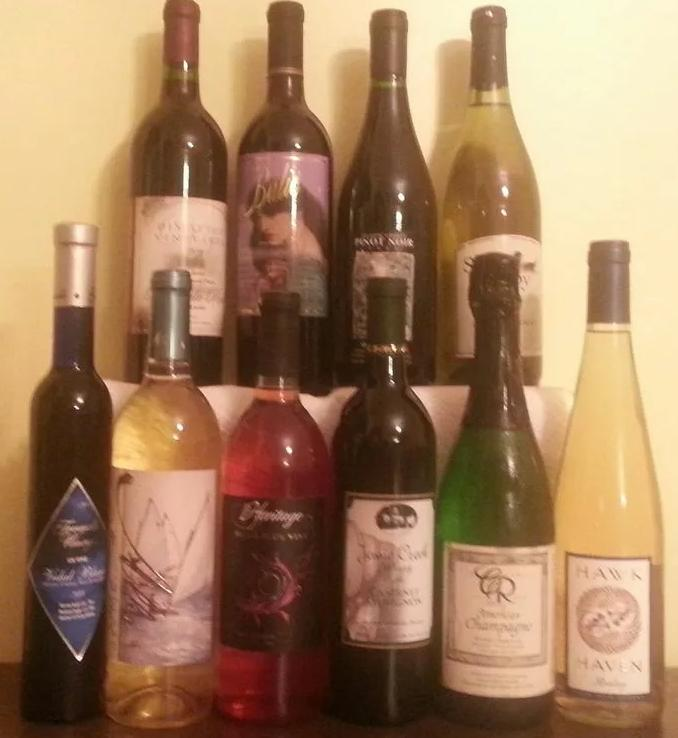wine bottle: (435, 255, 558, 731), (551, 239, 667, 727), (105, 268, 224, 728), (214, 288, 332, 725), (322, 277, 436, 727), (19, 220, 115, 726), (438, 4, 544, 384), (335, 8, 439, 385), (238, 2, 338, 393), (131, 0, 227, 386)
wine label: (109, 462, 216, 667), (218, 489, 330, 658), (440, 537, 557, 698), (26, 475, 109, 665), (339, 490, 435, 651), (238, 151, 328, 318), (135, 194, 227, 338), (566, 550, 651, 703), (453, 233, 542, 358), (348, 229, 422, 367)
